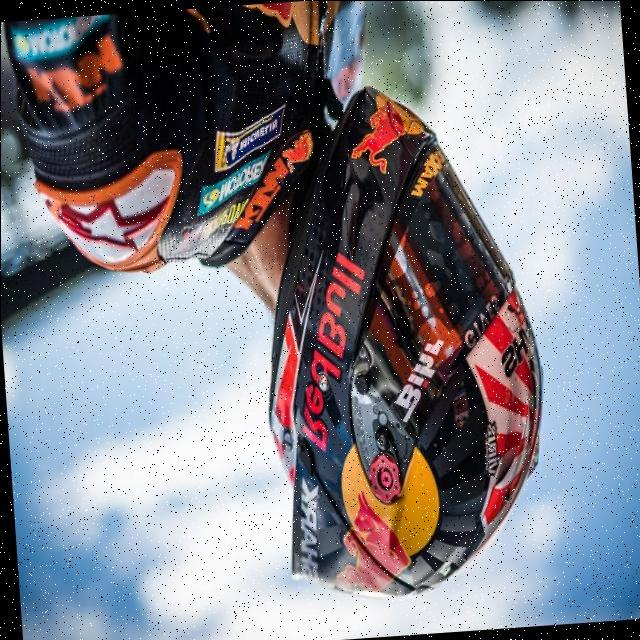Helm: (237, 57, 561, 608)
